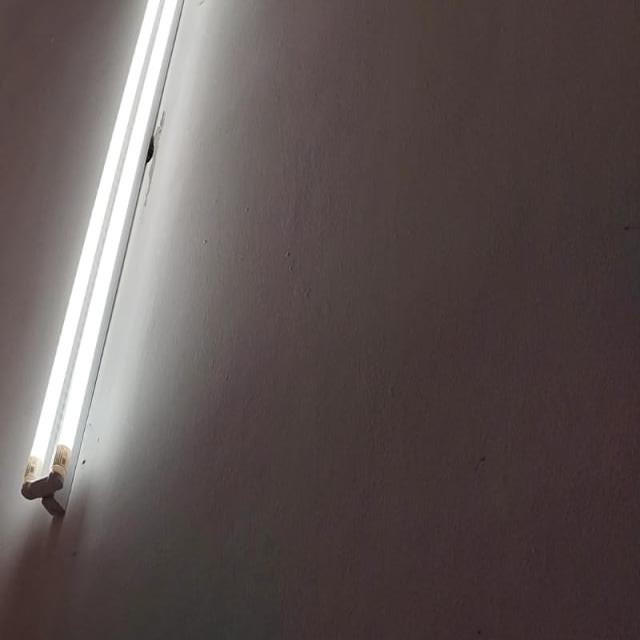fluorescent tube: (0, 0, 231, 551)
